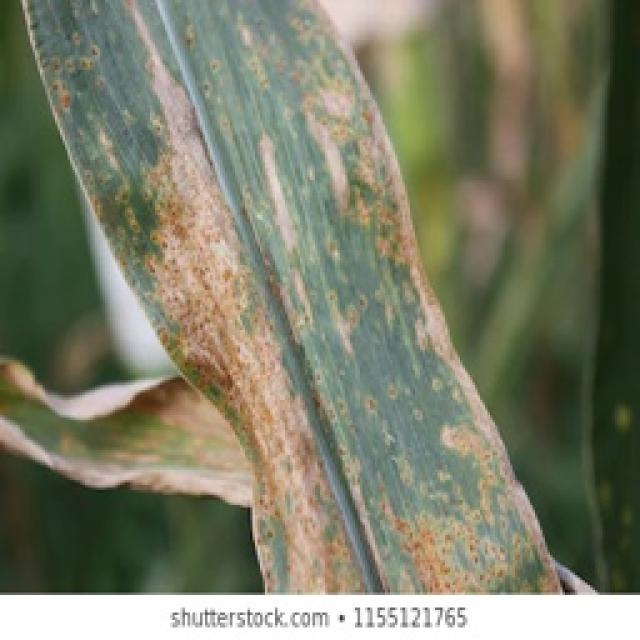Black Rust: (5, 0, 575, 592)
